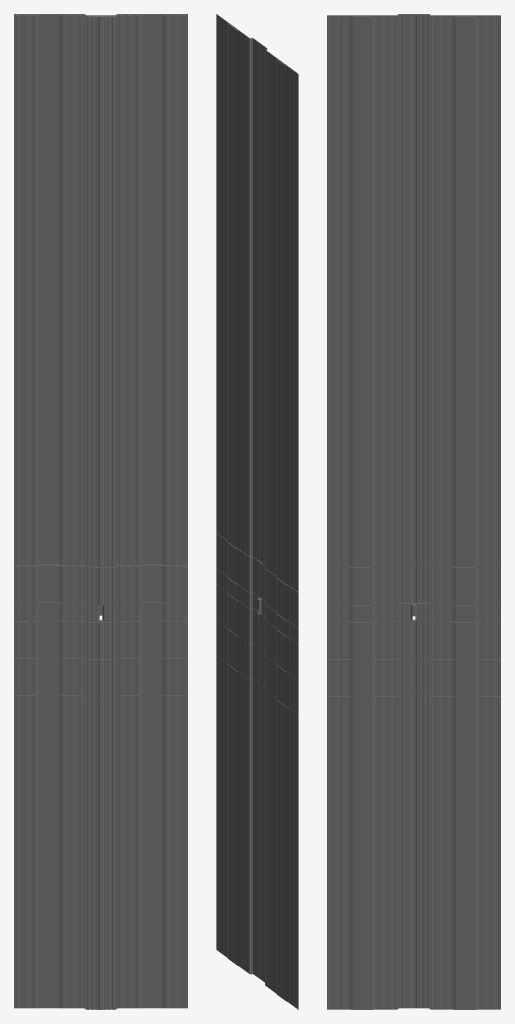
Rendered from tesla_backdrop_wall_01.dae.
3 views of the same model, side by side, from view 1: azimuth 90°, elevation 25°; view 2: azimuth 210°, elevation 25°; view 3: azimuth 270°, elevation 25° (orthographic). The views are drawn at different scales.
Parts seen in each view (by area): view 1: polySurface59; view 2: polySurface59; view 3: polySurface59.
Boxes of the visible parts, left/top/right/bottom form: polySurface59: left=14, top=14, right=187, bottom=1009; polySurface59: left=216, top=14, right=298, bottom=1009; polySurface59: left=327, top=14, right=500, bottom=1009.
Bounding box in the file's own units: 5552 × 1330920 × 211000.
